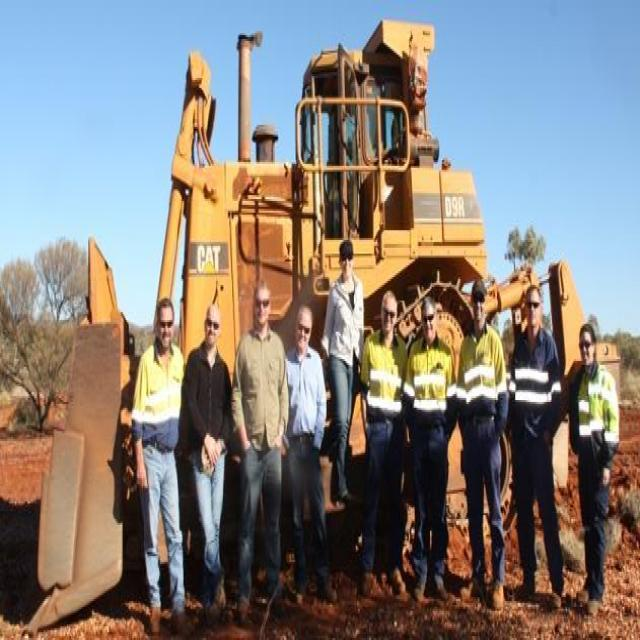buldozerpayloadergrader: (8, 8, 616, 638)
